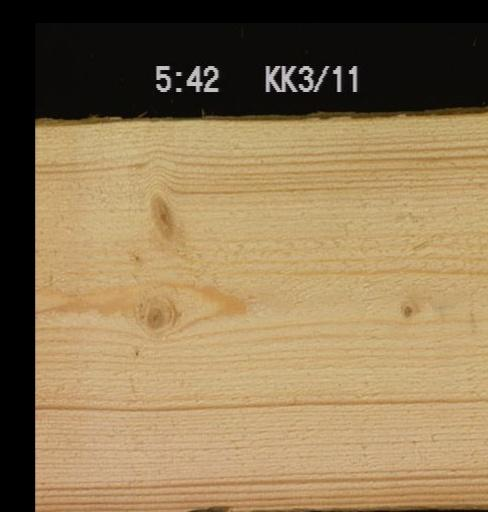small_knot: (400, 302, 414, 319)
sound_knot: (140, 296, 169, 334)
wave: (35, 114, 179, 123)
